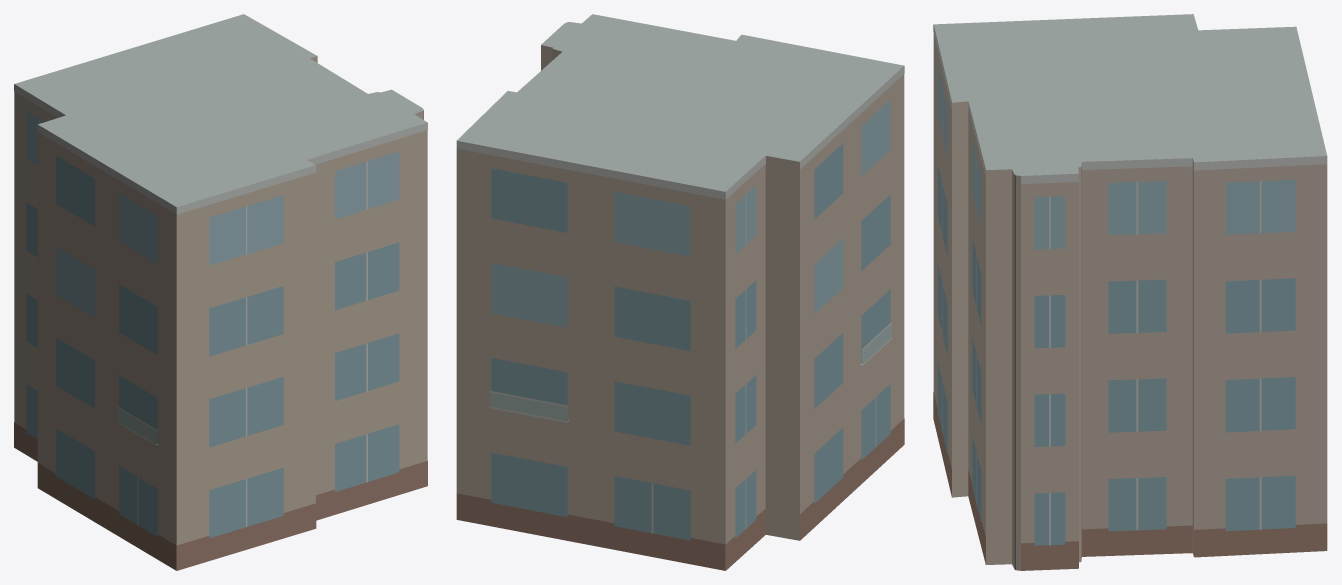
Rendered from survey-upis-32636625.glb.
3 views of the same model, side by side, from view 1: azimuth 30°, elevation 25°; view 2: azimuth 150°, elevation 25°; view 3: azimuth 270°, elevation 25° (orthographic). The views are drawn at different scales.
Visible parts, largest first — view 1: survey-upis-32636625.tmp; view 2: survey-upis-32636625.tmp; view 3: survey-upis-32636625.tmp.
Part boxes in pixels (box(x1,y1,x2,y2)): survey-upis-32636625.tmp: box(14, 14, 427, 570); survey-upis-32636625.tmp: box(456, 14, 904, 570); survey-upis-32636625.tmp: box(933, 14, 1327, 570).
Size of the model in its own units: 10.39 by 11.8 by 10.67.
